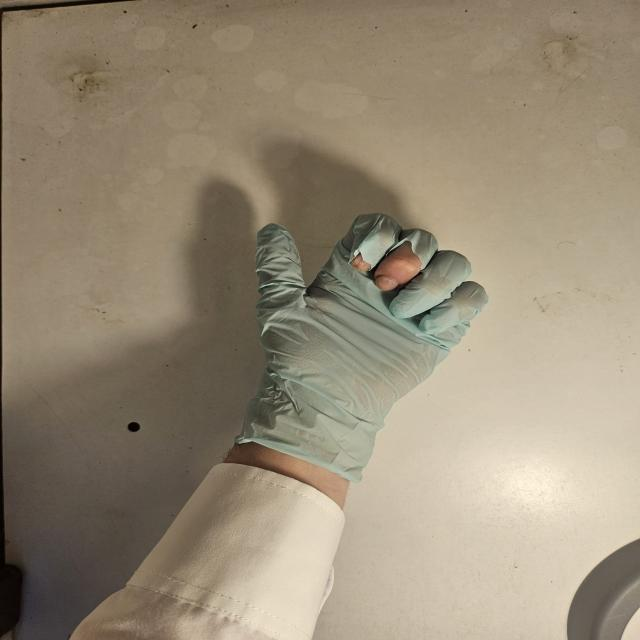gloves_damaged: (229, 213, 498, 486)
